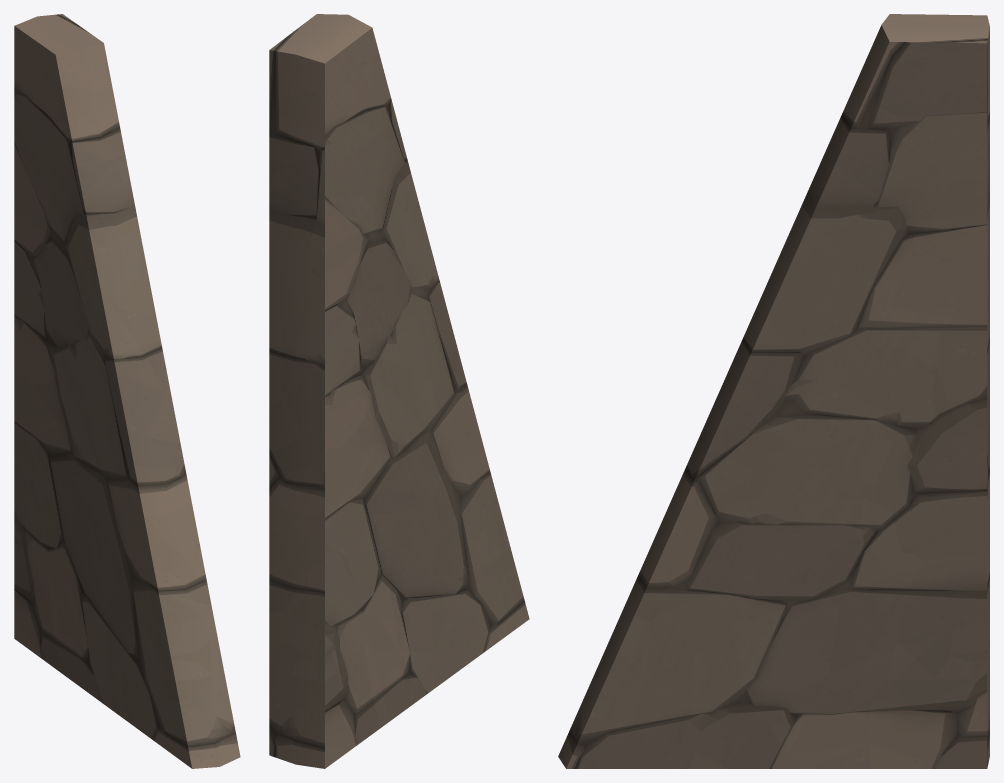
Rendered from SM_Bld_Wall_Slope_Edge_02.fbx.
The picture shows the model from 3 angles, left to right: view 1: azimuth 30°, elevation 25°; view 2: azimuth 150°, elevation 25°; view 3: azimuth 270°, elevation 25°; orthographic projection. The views are drawn at different scales.
Visible parts, largest first — view 1: SM_Bld_Wall_Slope_Edge_02; view 2: SM_Bld_Wall_Slope_Edge_02; view 3: SM_Bld_Wall_Slope_Edge_02.
Boxes of the visible parts, left/top/right/bottom form: SM_Bld_Wall_Slope_Edge_02: left=14, top=14, right=240, bottom=768; SM_Bld_Wall_Slope_Edge_02: left=269, top=14, right=529, bottom=768; SM_Bld_Wall_Slope_Edge_02: left=558, top=14, right=989, bottom=768.
Bounding box in the file's own units: 25 × 306 × 163.
1 material, 1 textured.
